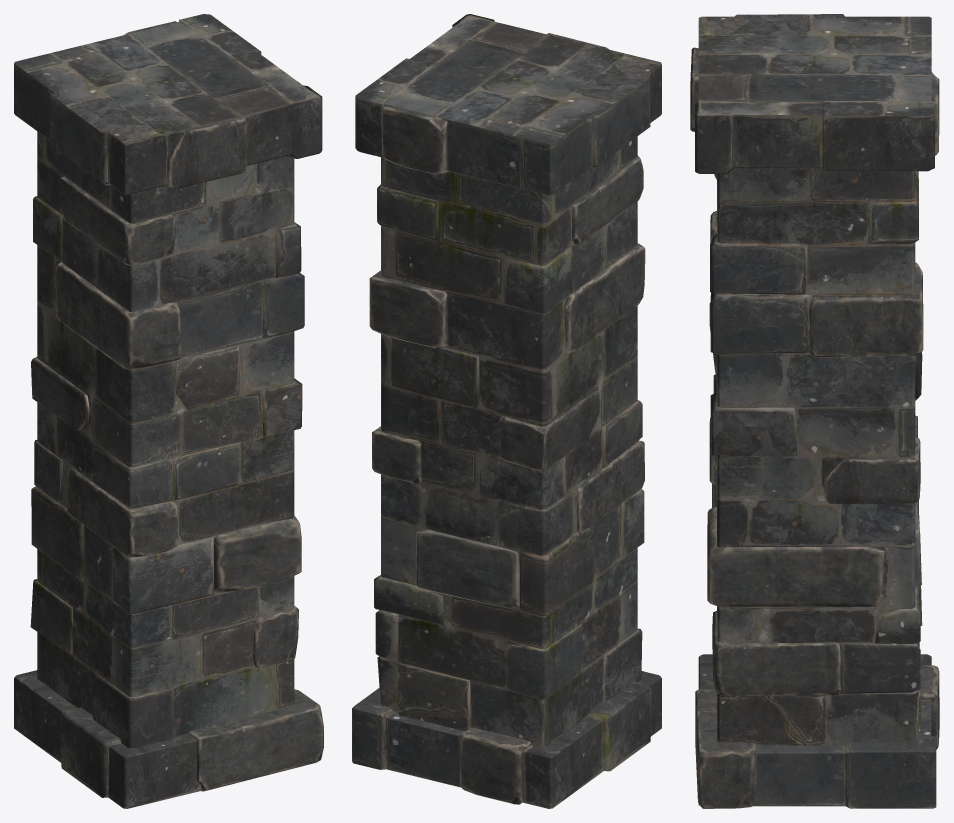
The picture shows the model from 3 angles, left to right: view 1: azimuth 30°, elevation 25°; view 2: azimuth 150°, elevation 25°; view 3: azimuth 270°, elevation 25°; orthographic projection. The views are drawn at different scales.
Parts seen in each view (by area): view 1: SM_SaradominTemple_Pillar_1x4_01_v1_LOD0; view 2: SM_SaradominTemple_Pillar_1x4_01_v1_LOD0; view 3: SM_SaradominTemple_Pillar_1x4_01_v1_LOD0.
Boxes of the visible parts, <box> form: SM_SaradominTemple_Pillar_1x4_01_v1_LOD0: <box>14,14,323,808</box>; SM_SaradominTemple_Pillar_1x4_01_v1_LOD0: <box>352,14,661,808</box>; SM_SaradominTemple_Pillar_1x4_01_v1_LOD0: <box>690,14,939,808</box>.
Size of the model in its own units: 1.29 by 4.02 by 1.31.
Materials: 2 (2 with a texture image).
